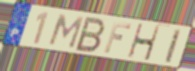1: (33, 11, 50, 45)
B: (73, 16, 107, 54)
F: (102, 21, 133, 55)
H: (126, 23, 161, 63)
I: (164, 27, 182, 65)
M: (46, 13, 85, 51)
